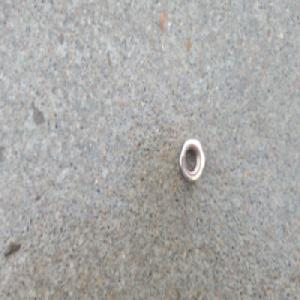Nut: (178, 137, 206, 184)
